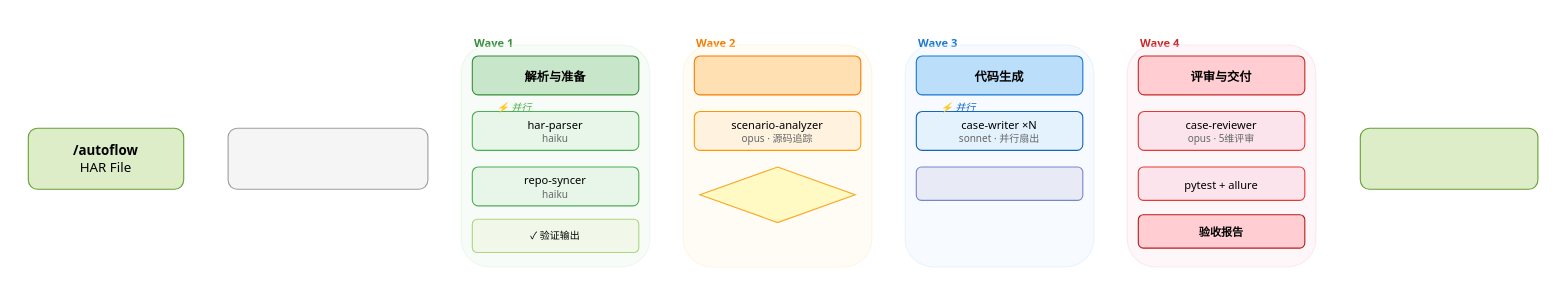
Some shapes in this 1557 by 286 pixel diagram are drawn without their labels. The centre of each missing label's shape, as x and y in pixels:
"pytest 测试套件 interface + scenariotest" belongs at (1448,158).
"✓ py_compile 验证" belongs at (999,183).
"场景分析" belongs at (777,75).
"预检阶段 HAR校验 · 认证扫描 · 配置加载" belongs at (327,158).
"👤 用户确认场景" belongs at (777,194).
